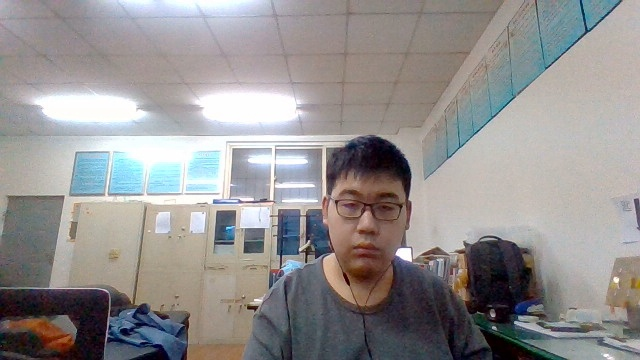listening: (283, 144, 472, 358)
